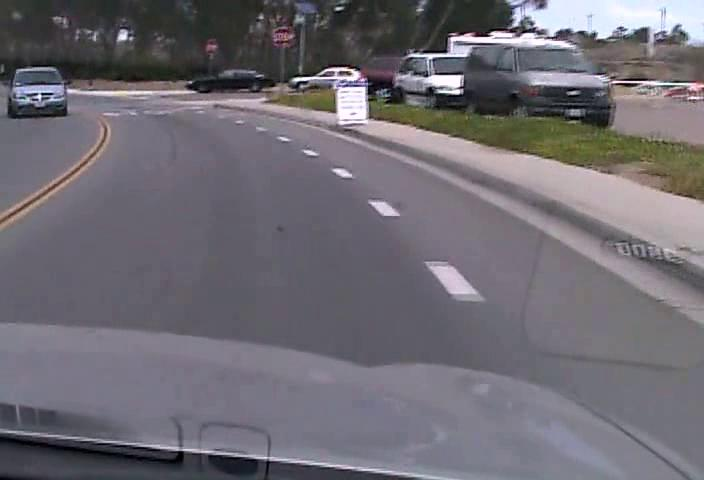stop: (269, 25, 296, 49)
